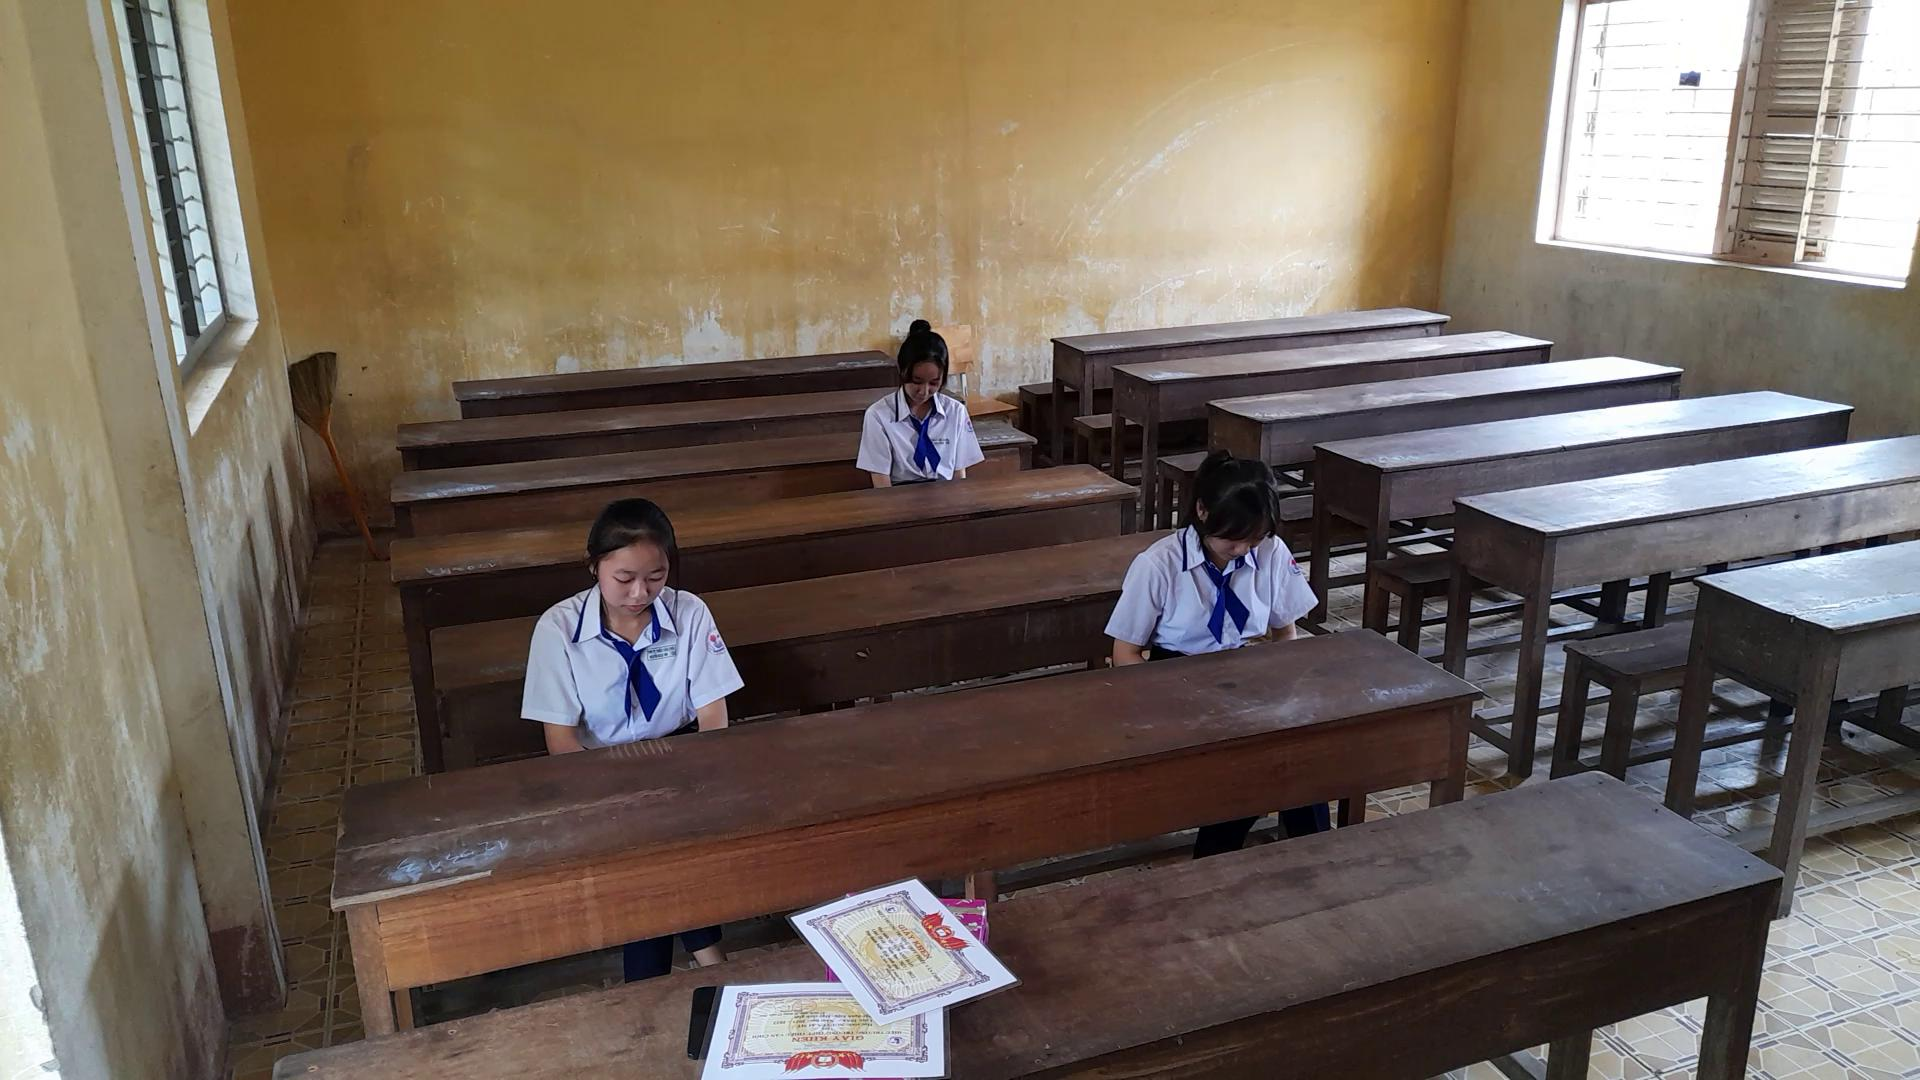Bend Over The Desk: (562, 492, 694, 630), (1156, 431, 1288, 568), (880, 310, 976, 421)
Hand Under Table: (525, 589, 589, 765), (1098, 535, 1176, 675), (678, 585, 735, 746), (1255, 541, 1312, 654), (943, 392, 986, 489), (852, 394, 895, 492)
